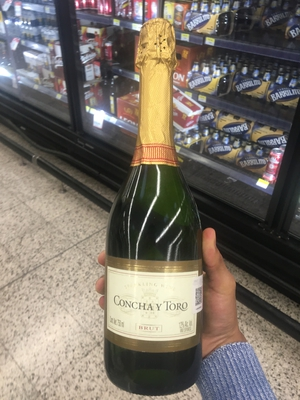brut: (96, 21, 221, 384)
